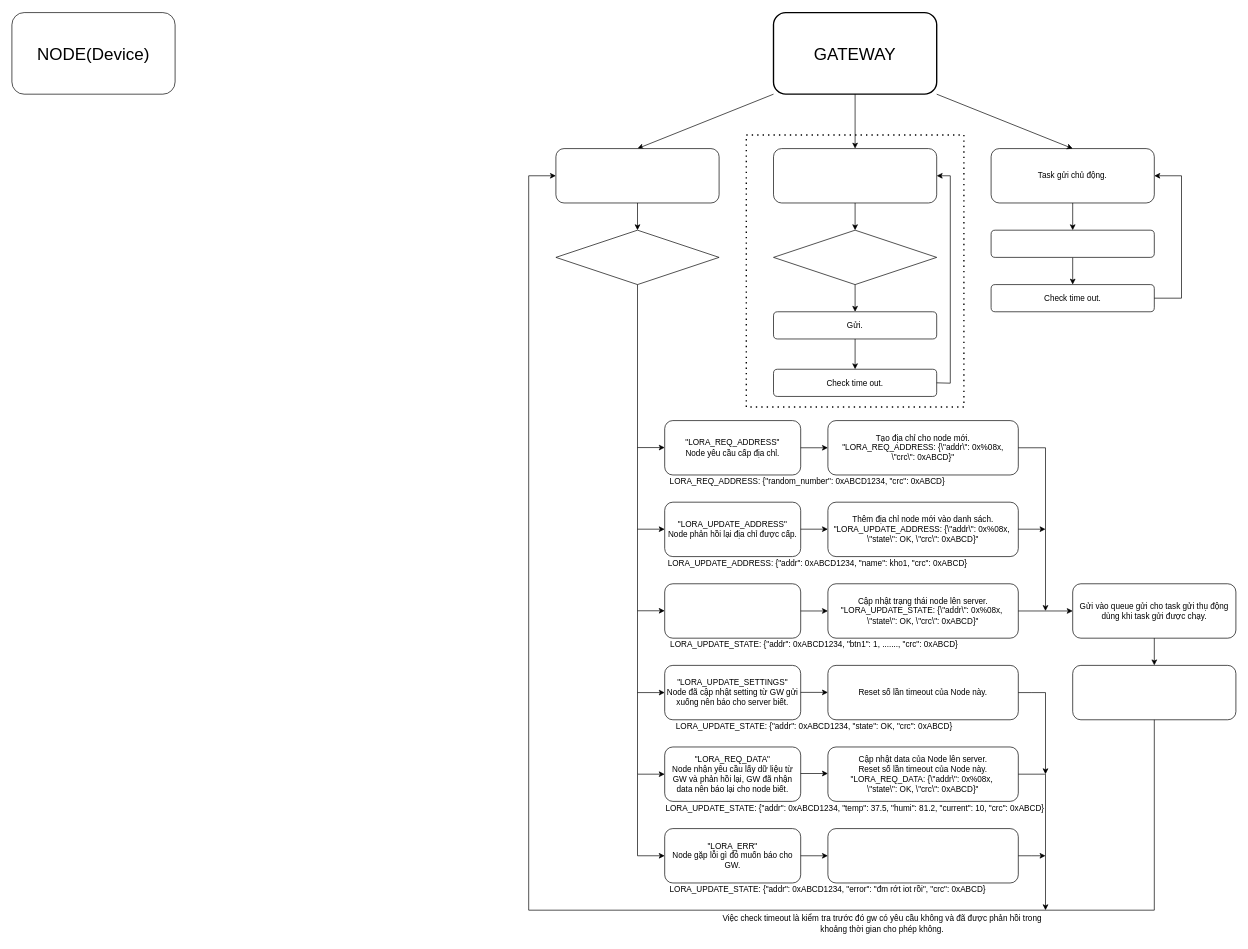
Image size: 1248x949. Some labels were removed from this diagram. Here are the shapes that lost their labels. From the top down, the centre of each, then its label:
point 637,175: Task kiểm tra nhận.
point 855,175: Task gửi thụ động.
point 637,257: Check queue nhận.
point 855,257: Check queue gửi.
point 1072,243: Gửi yêu cầu data đến node sau n giây.
point 732,610: "LORA_UPDATE_STATE" Có hành động gì đó ở node cần cập nhật đến GW và server.
point 1154,692: Check response time out.
point 922,855: Xử lý lỗi
